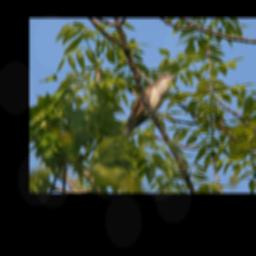Cuckoo: (121, 73, 177, 139)
